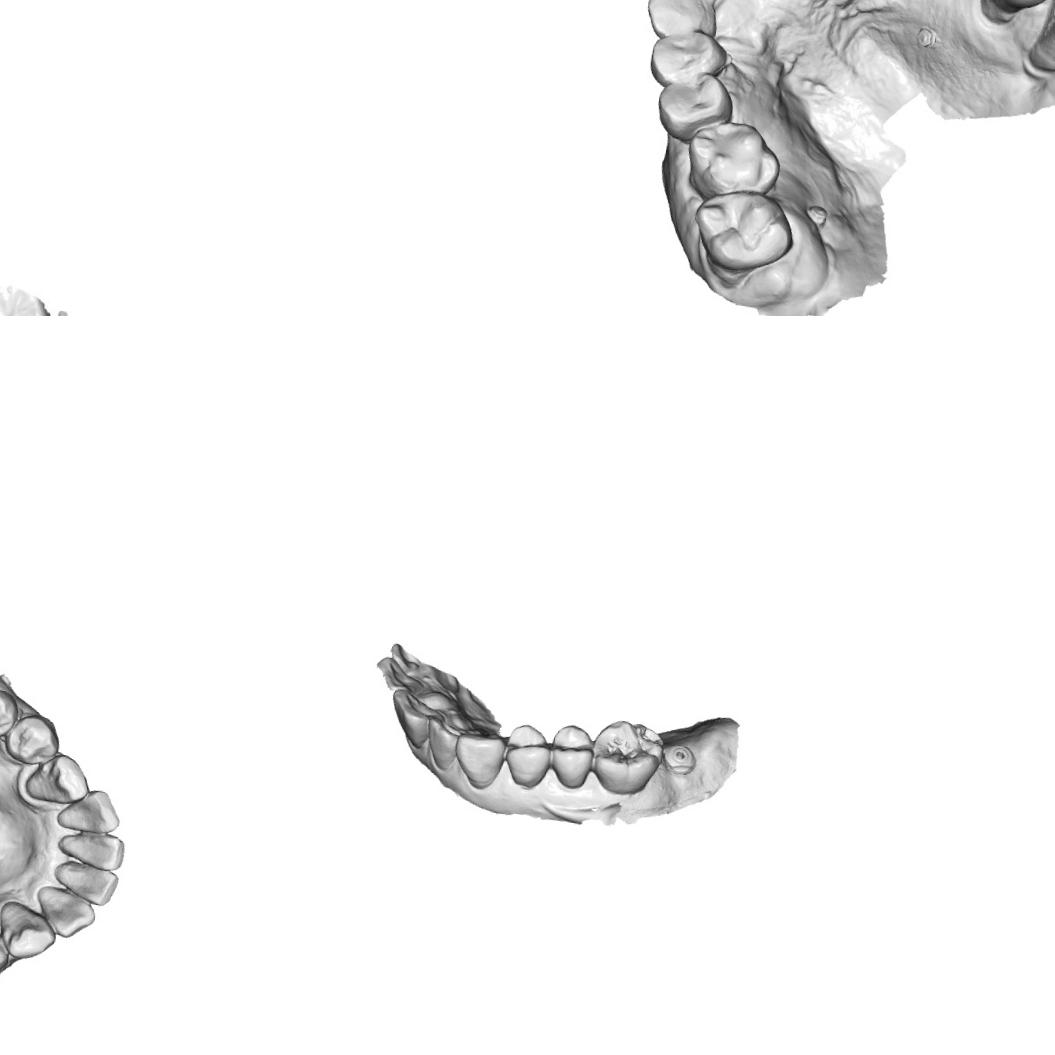canine: (21, 748, 95, 808), (0, 897, 61, 964), (448, 728, 509, 793), (640, 0, 723, 46)
implant: (659, 739, 700, 780)
incisor: (386, 686, 449, 753), (30, 883, 100, 943), (48, 856, 122, 909), (54, 783, 124, 837), (53, 826, 128, 873), (419, 713, 464, 774), (373, 654, 427, 696)
molar: (686, 182, 800, 281), (682, 112, 782, 204), (585, 714, 668, 801), (0, 280, 53, 316)
premolar: (651, 68, 738, 148), (645, 26, 730, 92), (497, 720, 557, 792), (544, 720, 602, 794), (2, 708, 64, 768), (0, 682, 22, 743), (0, 923, 13, 984)
